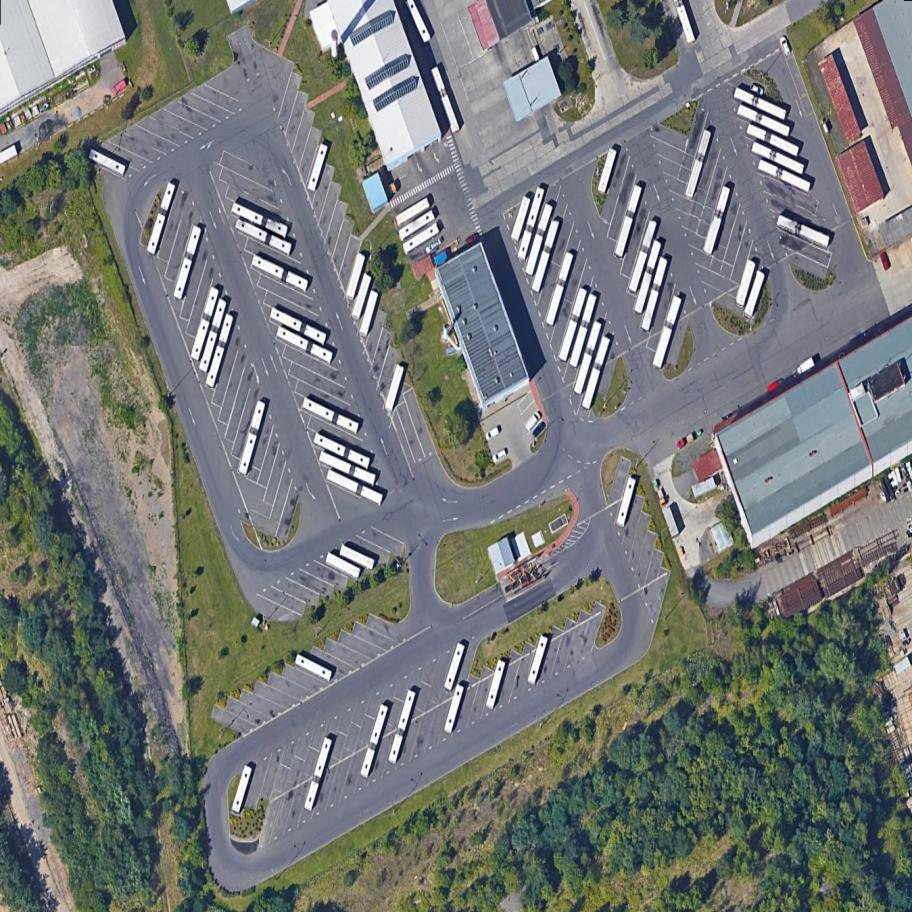large-vehicle: (298, 397, 362, 437), (310, 432, 374, 472), (627, 219, 660, 296), (568, 292, 600, 371), (557, 286, 589, 365), (267, 307, 330, 347), (249, 254, 312, 294), (543, 250, 575, 328), (580, 334, 612, 412), (359, 702, 391, 779), (171, 224, 203, 301), (189, 286, 221, 363), (523, 201, 555, 278), (633, 238, 664, 317), (302, 736, 334, 812), (652, 294, 684, 370), (324, 468, 386, 507), (198, 297, 229, 374), (573, 320, 604, 397), (640, 255, 670, 334), (274, 326, 336, 364), (146, 181, 177, 257), (317, 450, 380, 487), (205, 313, 236, 388), (388, 688, 418, 765), (238, 400, 268, 477), (429, 65, 462, 135), (530, 218, 560, 295), (516, 186, 546, 262), (233, 218, 294, 255), (613, 184, 643, 259), (749, 140, 807, 178), (230, 202, 291, 238), (683, 128, 713, 200), (744, 123, 802, 159), (756, 158, 814, 194), (731, 86, 789, 122), (774, 213, 833, 248), (703, 186, 732, 255), (736, 103, 793, 138), (399, 222, 443, 257), (396, 210, 439, 243), (442, 641, 468, 694), (230, 764, 255, 817), (391, 197, 433, 228), (742, 269, 767, 320), (526, 635, 551, 686), (87, 147, 129, 177), (615, 475, 638, 529), (349, 271, 373, 322), (485, 658, 508, 711), (307, 143, 331, 193), (323, 551, 364, 580), (406, 1, 433, 45), (293, 653, 335, 681), (344, 252, 368, 301), (734, 259, 758, 308), (444, 683, 466, 736), (383, 363, 406, 412), (509, 194, 532, 243), (597, 149, 620, 196), (338, 544, 378, 571), (358, 290, 380, 339), (674, 3, 698, 46)
small-vehicle: (793, 356, 818, 377), (523, 411, 543, 433), (779, 35, 793, 57), (483, 426, 502, 442), (490, 448, 509, 464), (878, 249, 892, 270), (465, 231, 483, 247), (532, 420, 548, 437)
